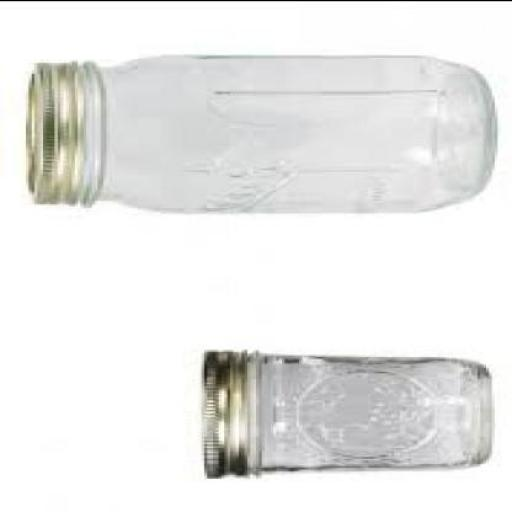glass: (75, 50, 495, 210), (244, 350, 492, 468)
metal: (26, 60, 80, 201), (199, 347, 255, 475)
